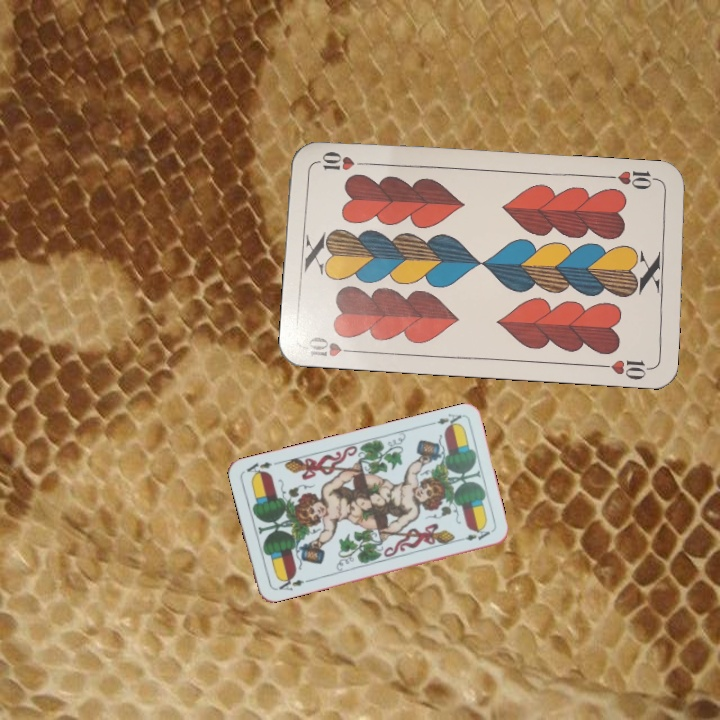EA: (425, 409, 464, 431), (271, 573, 311, 594)
H10: (604, 166, 663, 193), (304, 332, 362, 359)
